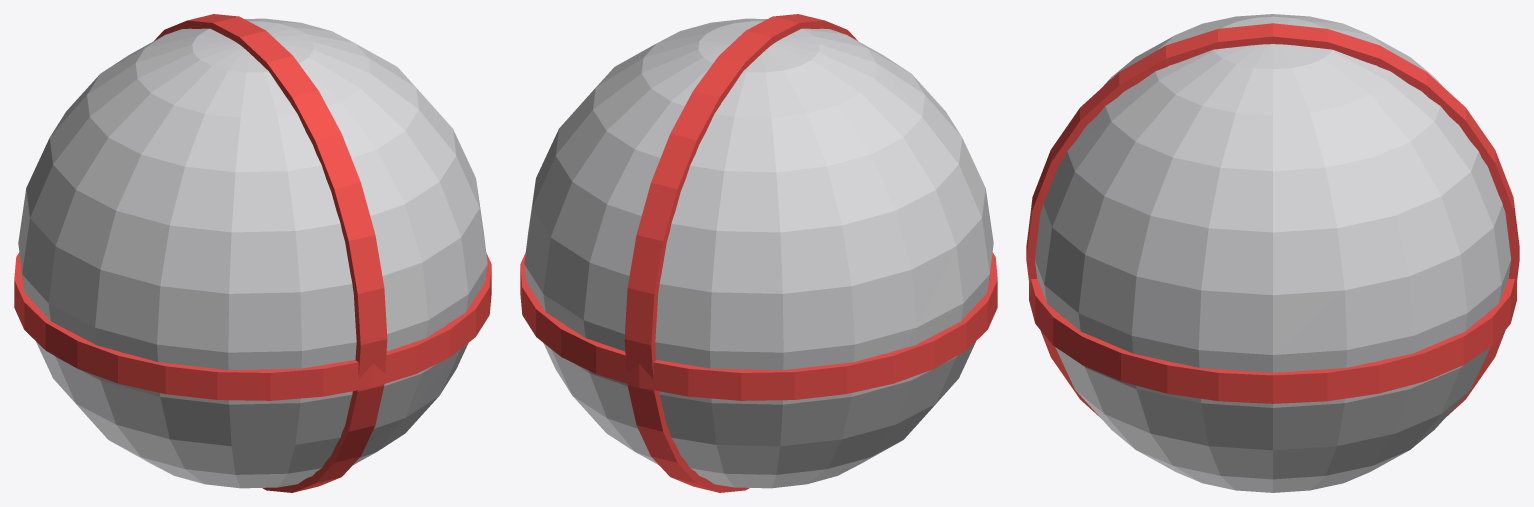
Rendered from vge_e_grav_engine_orb.obj.
3 views of the same model, side by side, from view 1: azimuth 30°, elevation 25°; view 2: azimuth 150°, elevation 25°; view 3: azimuth 270°, elevation 25° (orthographic).
Parts seen in each view (by area): view 1: vge_grav_engine_orb_0, vge_grav_engine_orb_2, vge_grav_engine_orb_1; view 2: vge_grav_engine_orb_0, vge_grav_engine_orb_2, vge_grav_engine_orb_1; view 3: vge_grav_engine_orb_0, vge_grav_engine_orb_1, vge_grav_engine_orb_2.
Part boxes in pixels (<box>): vge_grav_engine_orb_0: <box>18,18,487,488</box>; vge_grav_engine_orb_2: <box>154,14,387,492</box>; vge_grav_engine_orb_1: <box>14,252,491,400</box>; vge_grav_engine_orb_0: <box>524,18,993,488</box>; vge_grav_engine_orb_2: <box>624,14,857,492</box>; vge_grav_engine_orb_1: <box>520,252,997,400</box>; vge_grav_engine_orb_0: <box>1034,14,1511,492</box>; vge_grav_engine_orb_1: <box>1029,277,1516,403</box>; vge_grav_engine_orb_2: <box>1026,23,1519,417</box>.
Bounding box in the file's own units: 0.9332 × 0.944 × 0.944.
